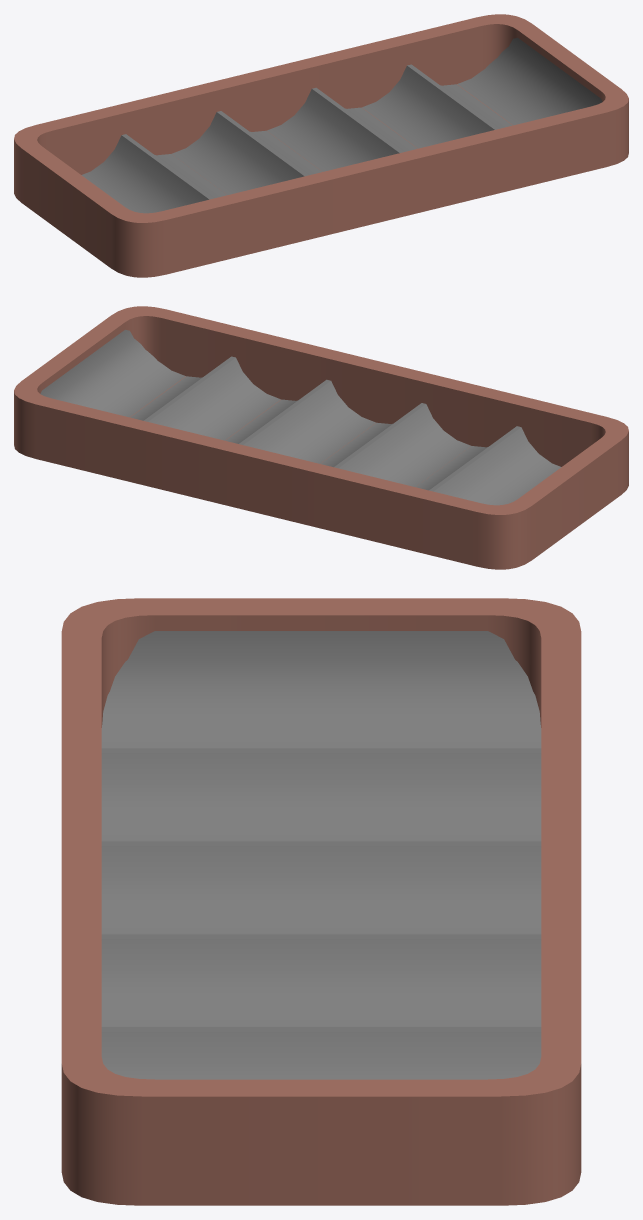
File: CanBox.fbx
The picture shows the model from 3 angles, top to bottom: view 1: azimuth 30°, elevation 25°; view 2: azimuth 150°, elevation 25°; view 3: azimuth 270°, elevation 25°; orthographic projection. The views are drawn at different scales.
Parts seen in each view (by area): view 1: CanBox; view 2: CanBox; view 3: CanBox.
Part boxes in pixels (x1=…): CanBox: x1=14, y1=14, x2=628, y2=277; CanBox: x1=14, y1=306, x2=628, y2=569; CanBox: x1=61, y1=598, x2=581, y2=1205.
Bounding box in the file's own units: 440 × 45.03 × 194.
